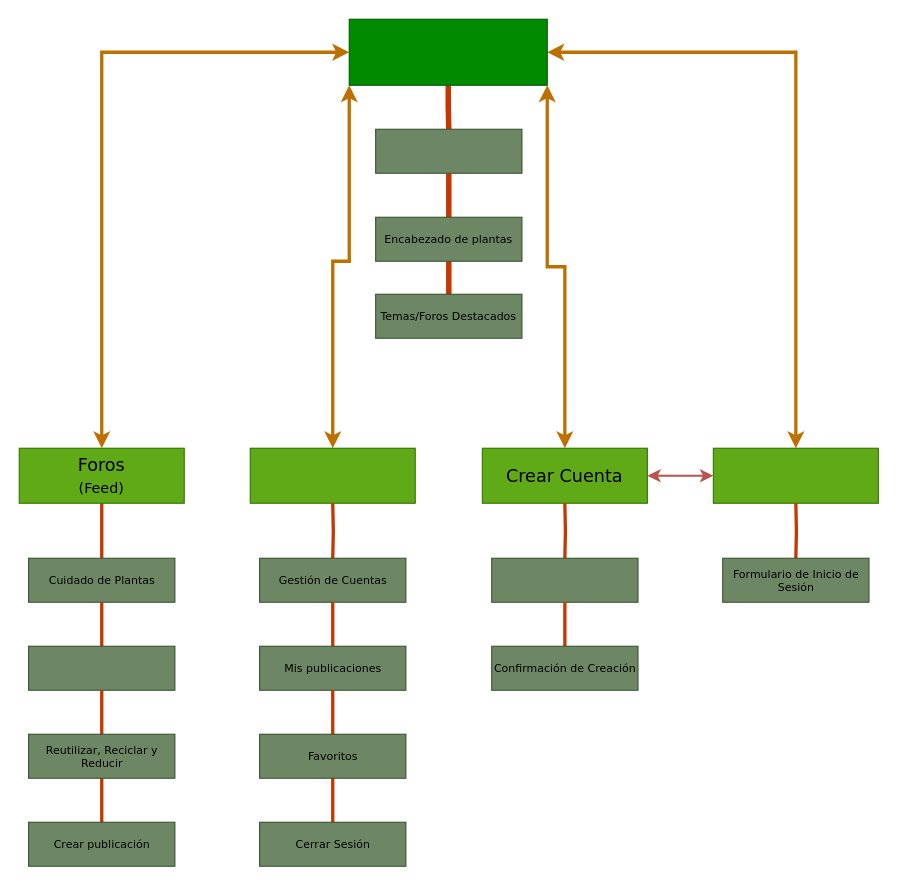
Image size: 898x886. Some labels were removed from this diagram. Each missing label, with the box of its shape:
Descripción del sitio (Pop-up): (375, 128, 522, 173)
Formulario de Registro: (491, 557, 638, 602)
Iniciar Sesión: (712, 447, 878, 503)
Inicio (Página de destino): (348, 18, 547, 85)
Manualidades con materiales reciclados: (28, 645, 175, 690)
Perfil de Usuario: (249, 447, 415, 503)
